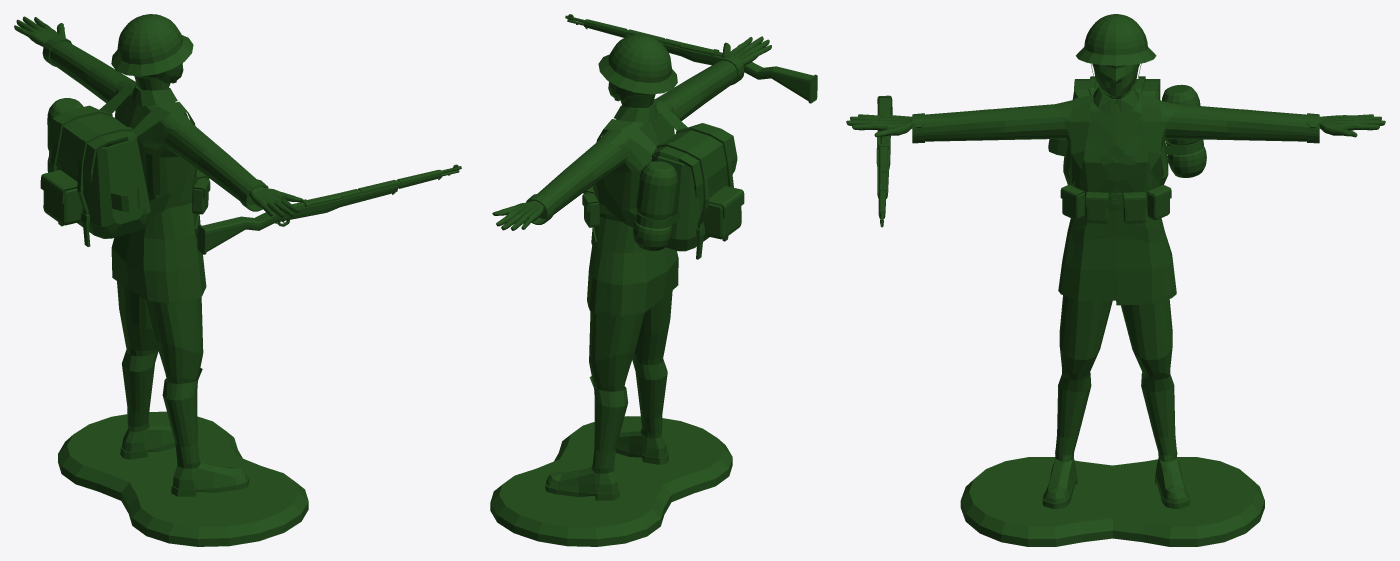
The model's file is soldier 1.fbx.
3 renders of one model, left to right at view 1: azimuth 30°, elevation 25°; view 2: azimuth 150°, elevation 25°; view 3: azimuth 270°, elevation 25°, orthographic. The views are drawn at different scales.
Visible parts, largest first — view 1: Cylinder.003; view 2: Cylinder.003; view 3: Cylinder.003.
Boxes of the visible parts, <box> form: Cylinder.003: <box>14,14,461,546</box>; Cylinder.003: <box>490,14,817,546</box>; Cylinder.003: <box>846,14,1385,546</box>.
Size of the model in its own units: 970 by 1508 by 1548.
